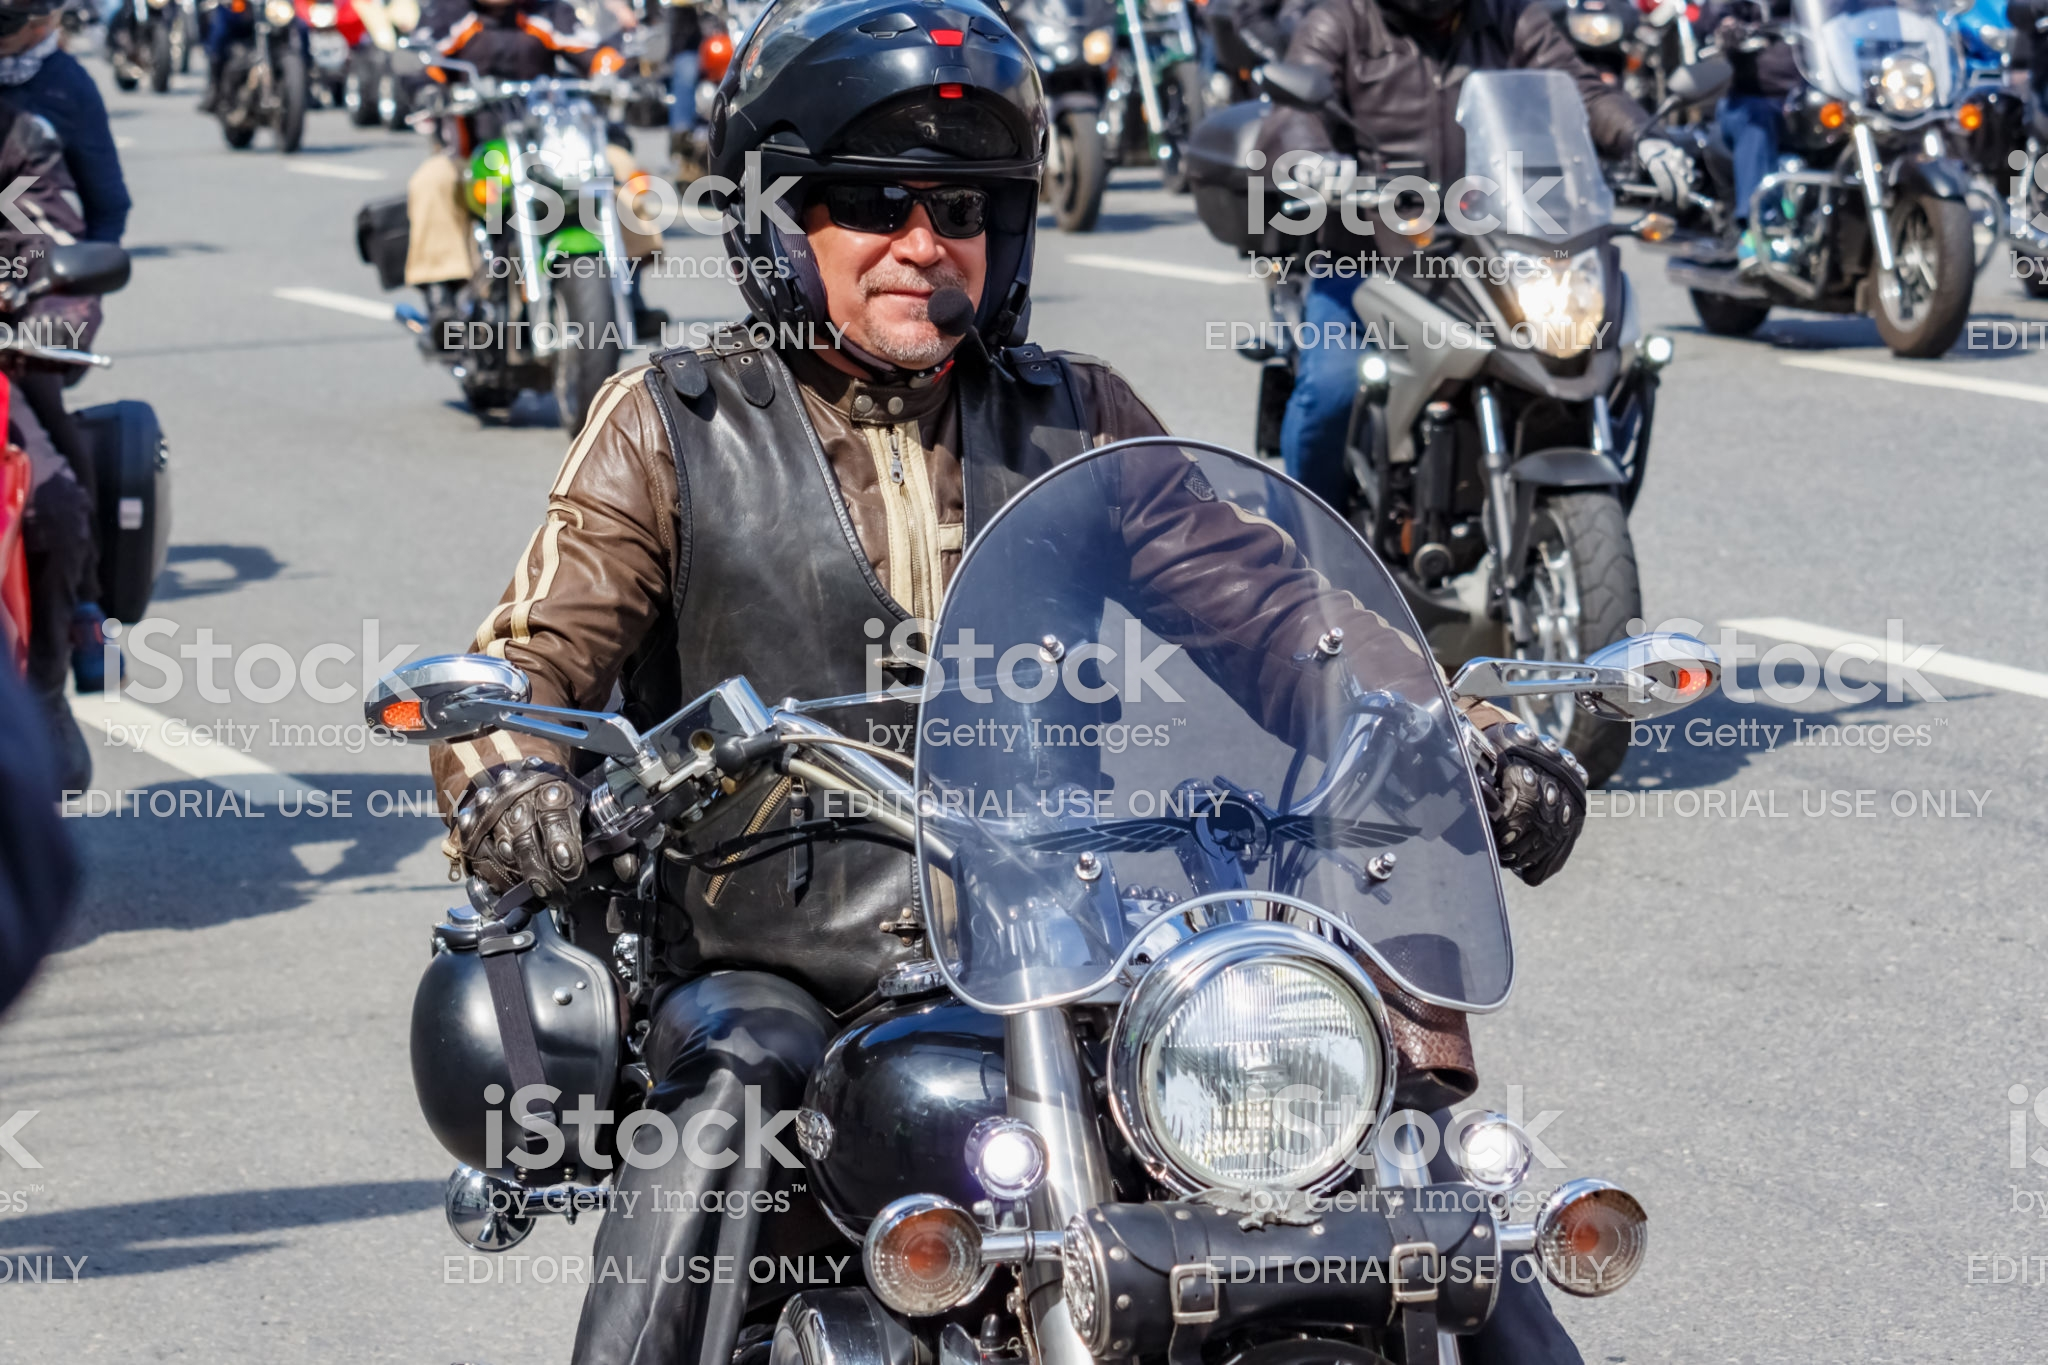helmet: (691, 27, 1073, 367)
